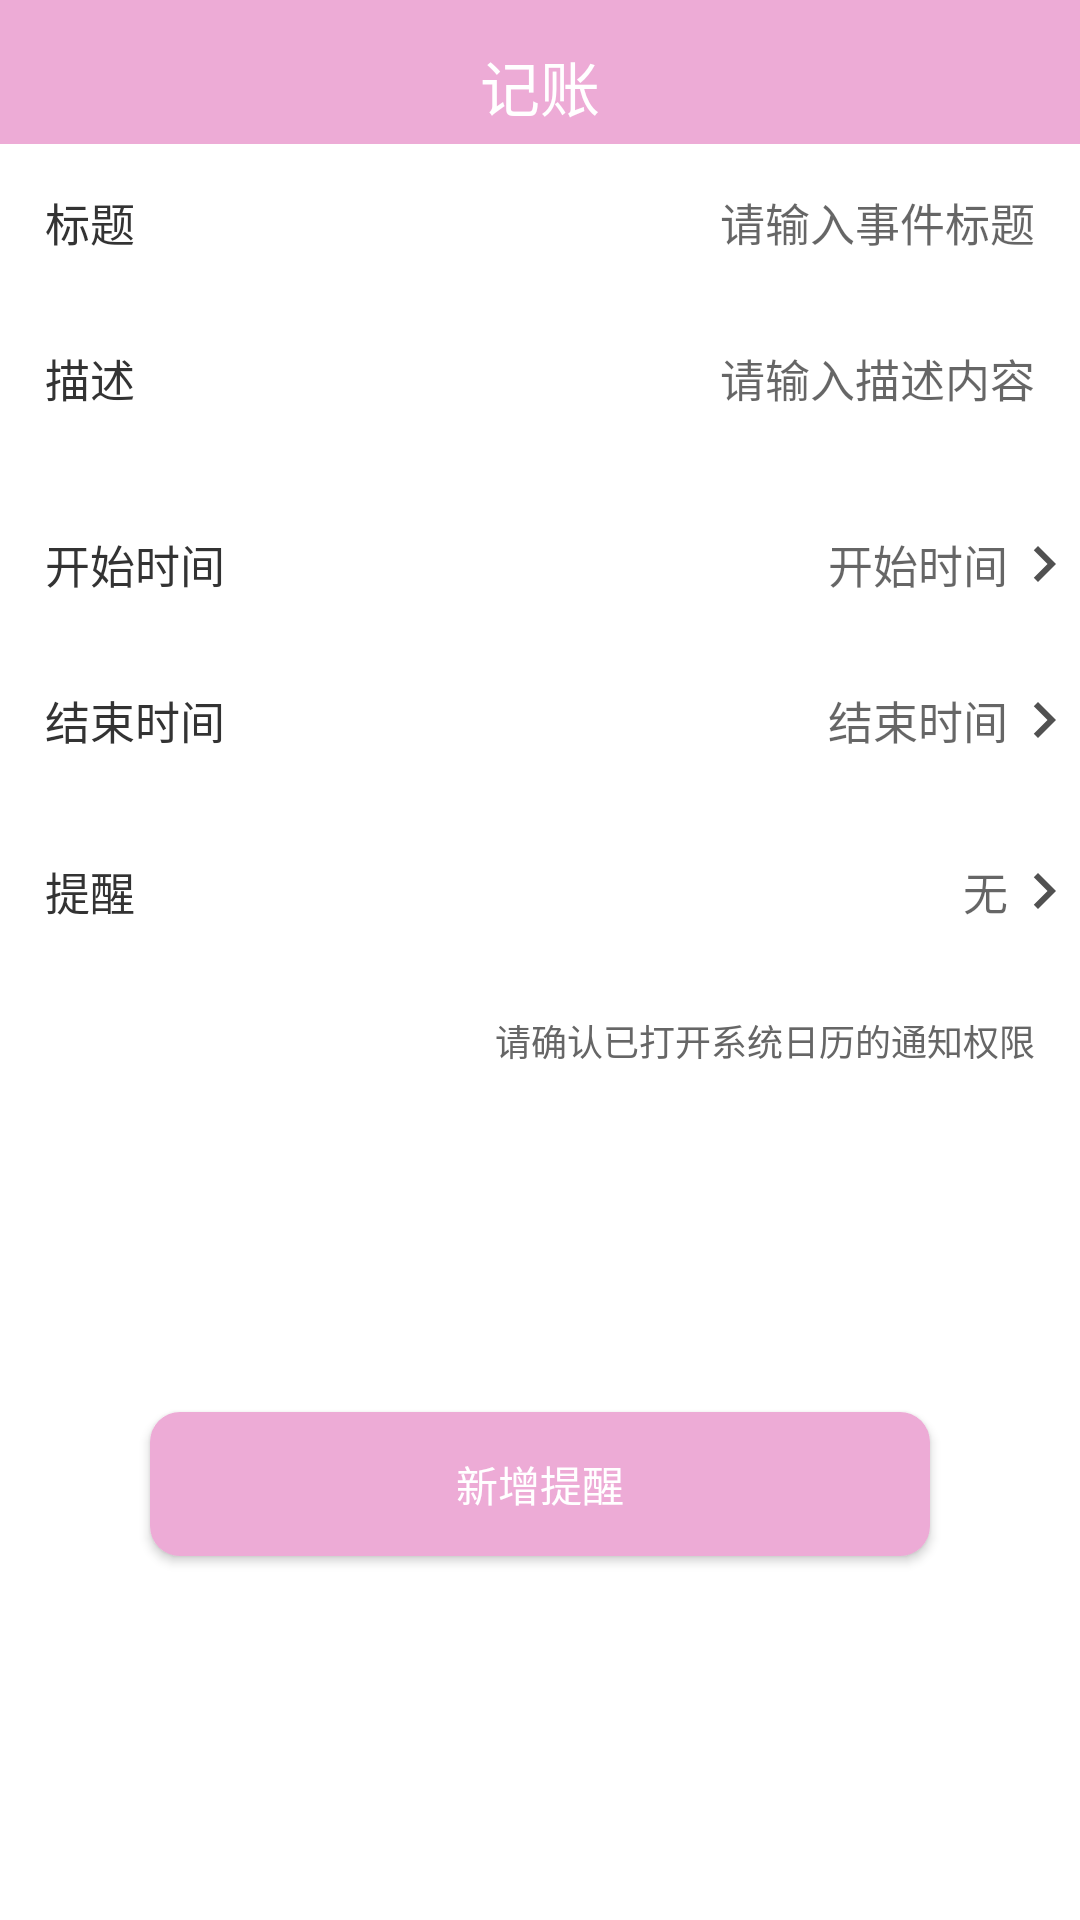

Screen size 1080*1920. Icon name, then its center in pixels as [x,y]:
navigate next: [1045,564], [1045,720], [1045,891]
